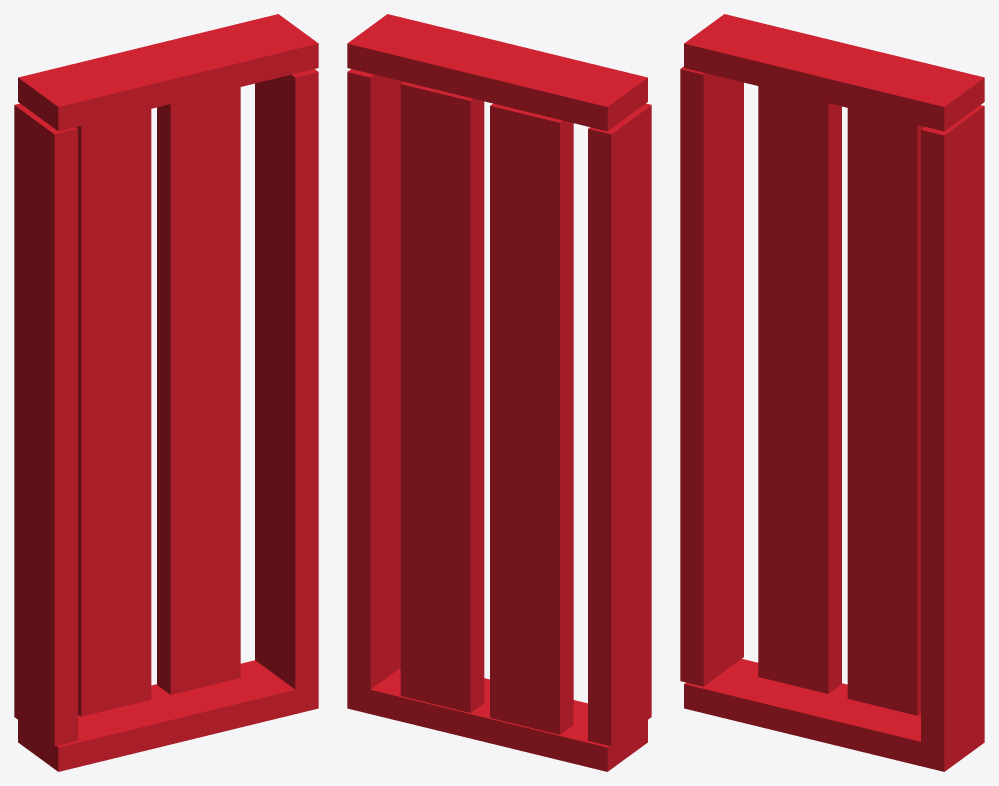
The model's file is tinker.obj.
The picture shows the model from 3 angles, left to right: view 1: azimuth 30°, elevation 25°; view 2: azimuth 150°, elevation 25°; view 3: azimuth 330°, elevation 25°; orthographic projection.
Visible parts, largest first — view 1: obj_0; view 2: obj_0; view 3: obj_0.
Part boxes in pixels (x1,y1,x2,y2): obj_0: (14, 14, 318, 771); obj_0: (347, 14, 651, 771); obj_0: (680, 14, 984, 771).
Bounding box in the file's own units: 136 × 327 × 36.
